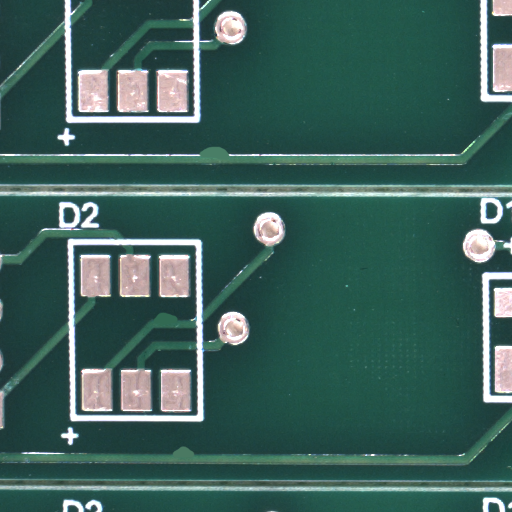Spur: (212, 151, 243, 164), (167, 316, 196, 329), (180, 450, 207, 461)
